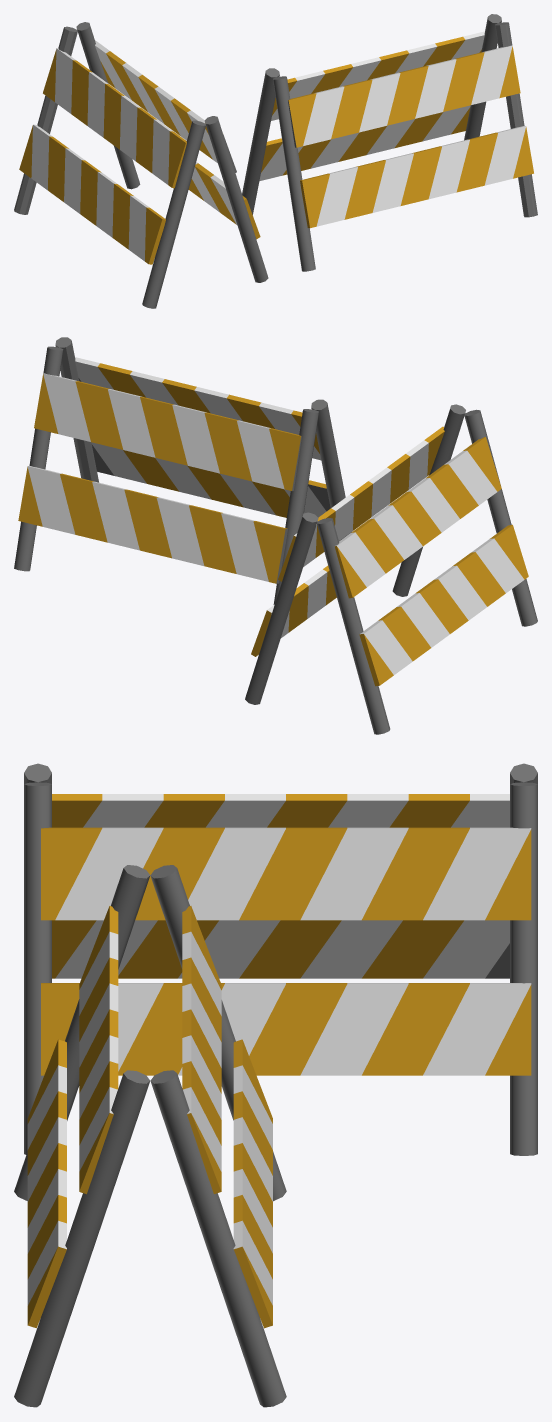
File: SM_Barier.fbx
3 renders of one model, top to bottom at view 1: azimuth 30°, elevation 25°; view 2: azimuth 150°, elevation 25°; view 3: azimuth 270°, elevation 25°, orthographic. The views are drawn at different scales.
Parts seen in each view (by area): view 1: pCube142; view 2: pCube142; view 3: pCube142.
Boxes of the visible parts, x1=… form: pCube142: x1=14, y1=14, x2=537, y2=308; pCube142: x1=14, y1=337, x2=537, y2=734; pCube142: x1=14, y1=763, x2=537, y2=1407.
Bounding box in the file's own units: 278 × 118 × 170.
